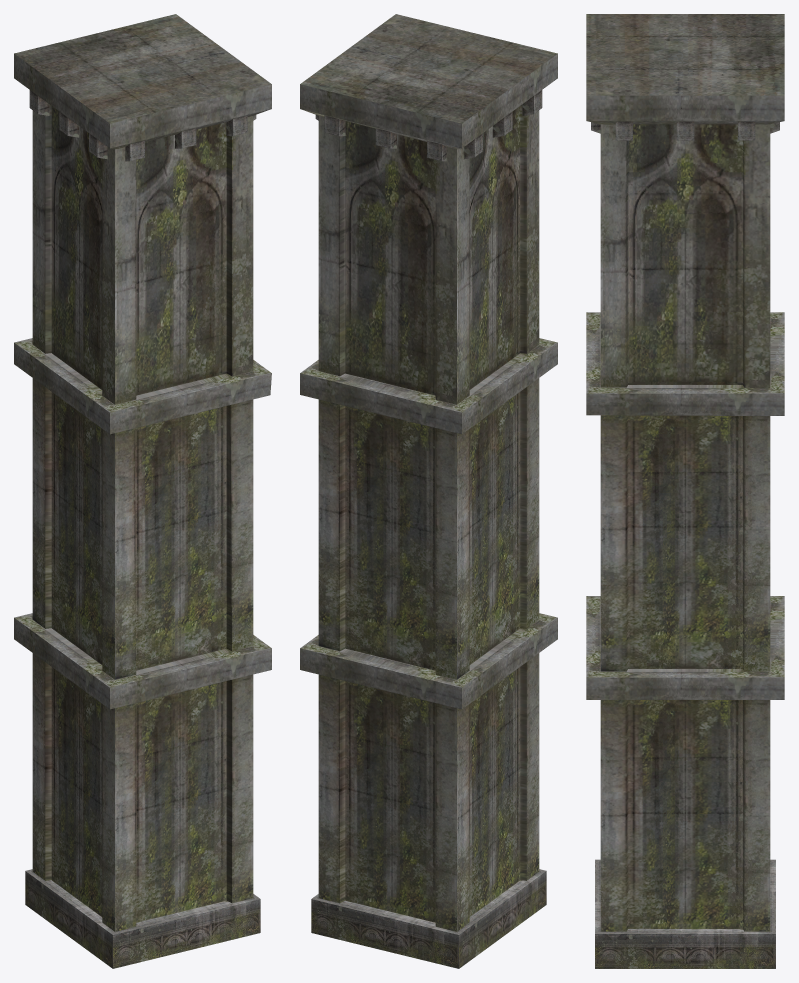
Rendered from bg_lut_lucastle_brosepillar02a_sm_psy.FBX.
The picture shows the model from 3 angles, left to right: view 1: azimuth 30°, elevation 25°; view 2: azimuth 150°, elevation 25°; view 3: azimuth 270°, elevation 25°; orthographic projection. The views are drawn at different scales.
Parts seen in each view (by area): view 1: bg_lut_lucastle_brosepillar02a_sm_psy; view 2: bg_lut_lucastle_brosepillar02a_sm_psy; view 3: bg_lut_lucastle_brosepillar02a_sm_psy.
Boxes of the visible parts, bbox=[...] form: bg_lut_lucastle_brosepillar02a_sm_psy: bbox=[14, 14, 271, 968]; bg_lut_lucastle_brosepillar02a_sm_psy: bbox=[300, 14, 557, 968]; bg_lut_lucastle_brosepillar02a_sm_psy: bbox=[586, 14, 784, 968].
Bounding box in the file's own units: 123 × 615 × 126.
